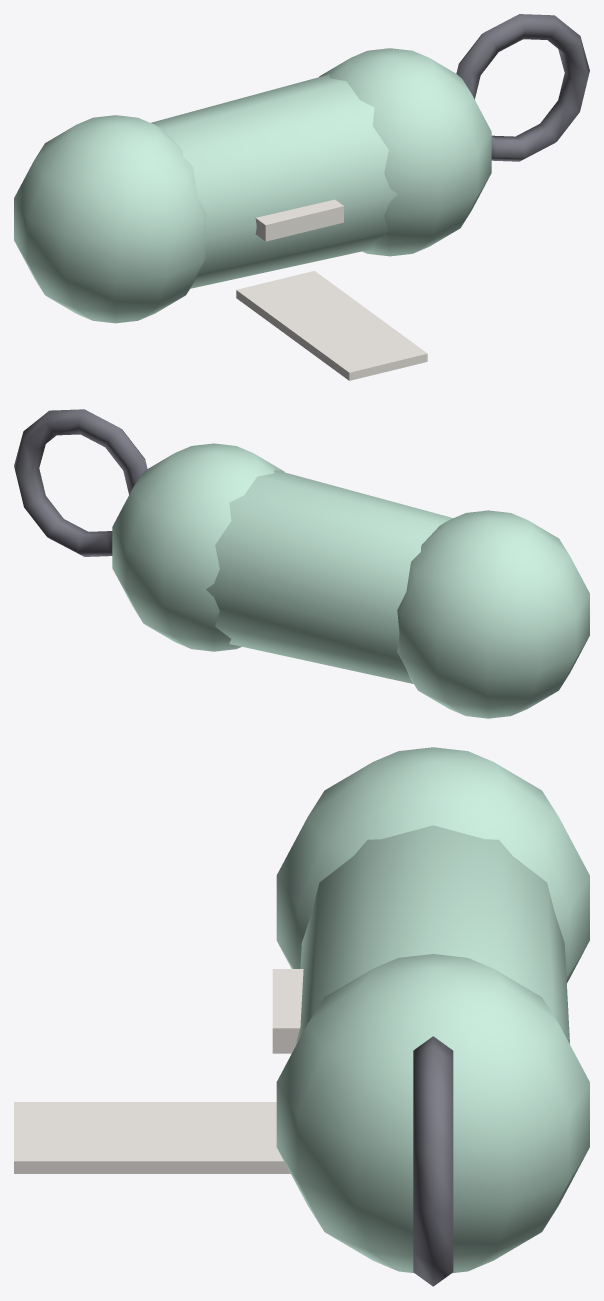
The model's file is companion-animals-and-pet-home-poop-bag-dispenser-520a3aee__20674.glb.
3 views of the same model, one above another, from view 1: azimuth 30°, elevation 25°; view 2: azimuth 150°, elevation 25°; view 3: azimuth 270°, elevation 25° (orthographic). The views are drawn at different scales.
Visible parts, largest first — view 1: poop-bag-dispenser; view 2: poop-bag-dispenser; view 3: poop-bag-dispenser.
Boxes of the visible parts, x1,y1,x2,y2 form: poop-bag-dispenser: (14, 14, 589, 380); poop-bag-dispenser: (14, 409, 589, 718); poop-bag-dispenser: (14, 747, 589, 1286).
Size of the model in its own units: 0.1434 by 0.049 by 0.0824.
